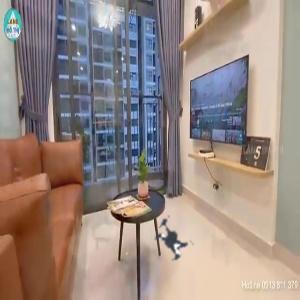drone: (131, 199, 215, 283)
